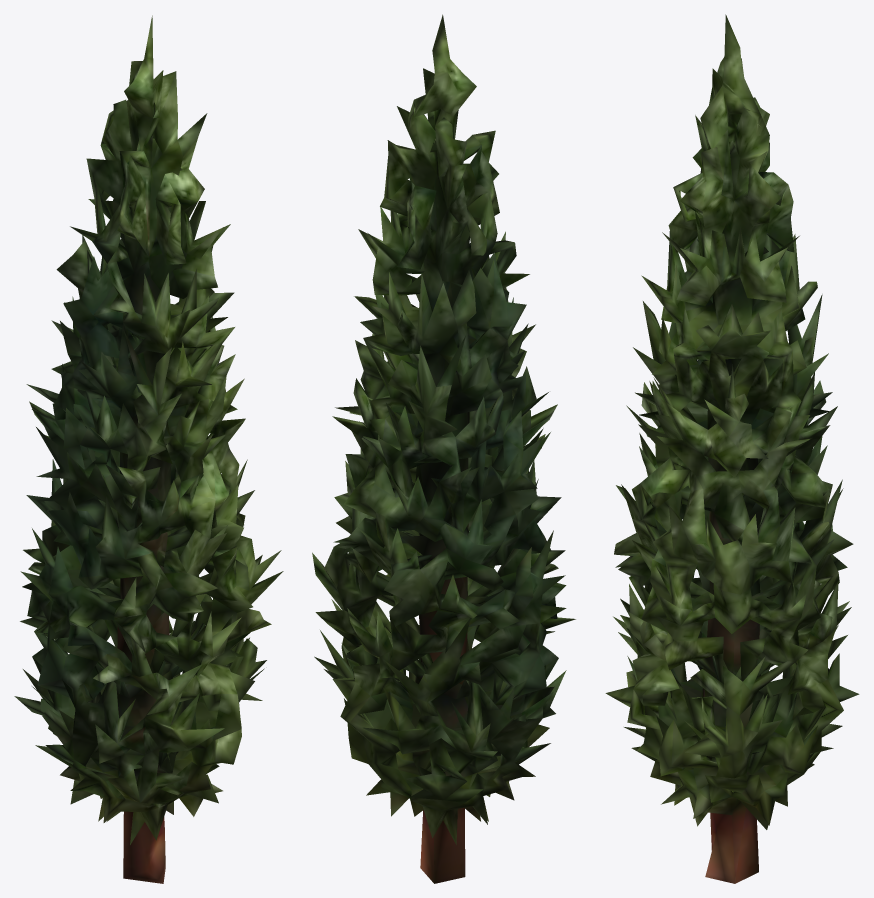
Rendered from tree-cypress.glb.
The picture shows the model from 3 angles, left to right: view 1: azimuth 30°, elevation 25°; view 2: azimuth 150°, elevation 25°; view 3: azimuth 270°, elevation 25°; orthographic projection.
Visible parts, largest first — view 1: tripo_node_b6a79385-14a8-4b22-a8ec-76ebedc721e2; view 2: tripo_node_b6a79385-14a8-4b22-a8ec-76ebedc721e2; view 3: tripo_node_b6a79385-14a8-4b22-a8ec-76ebedc721e2.
Part boxes in pixels (left/top/right/bottom): tripo_node_b6a79385-14a8-4b22-a8ec-76ebedc721e2: left=14, top=15, right=283, bottom=883; tripo_node_b6a79385-14a8-4b22-a8ec-76ebedc721e2: left=312, top=14, right=575, bottom=883; tripo_node_b6a79385-14a8-4b22-a8ec-76ebedc721e2: left=605, top=14, right=859, bottom=883.
Size of the model in its own units: 0.2767 by 1 by 0.2674.
1 material, 1 textured.
